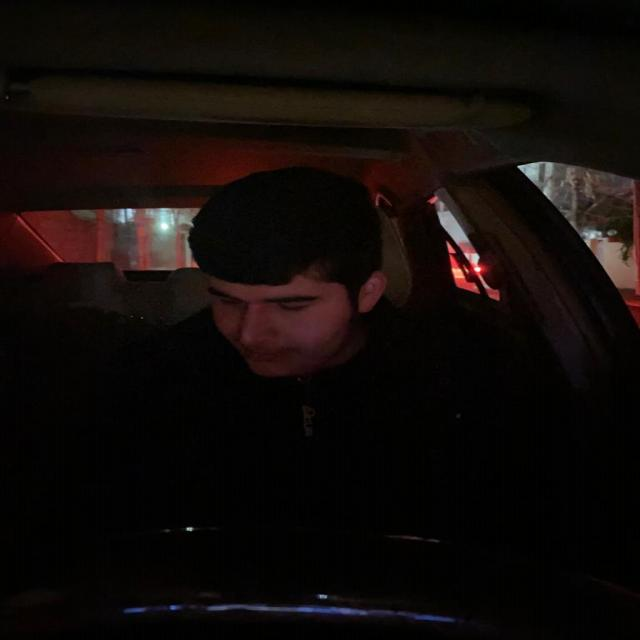drowsy: (184, 161, 397, 384)
